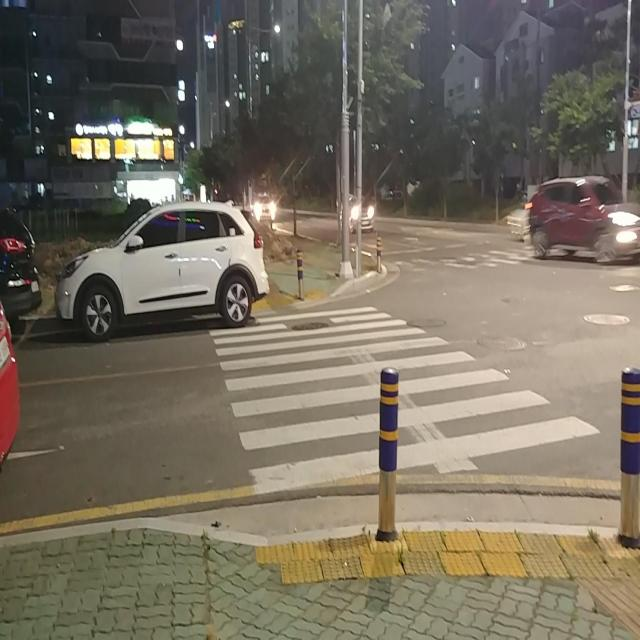횡단보도: (205, 301, 602, 499), (384, 250, 526, 272)
